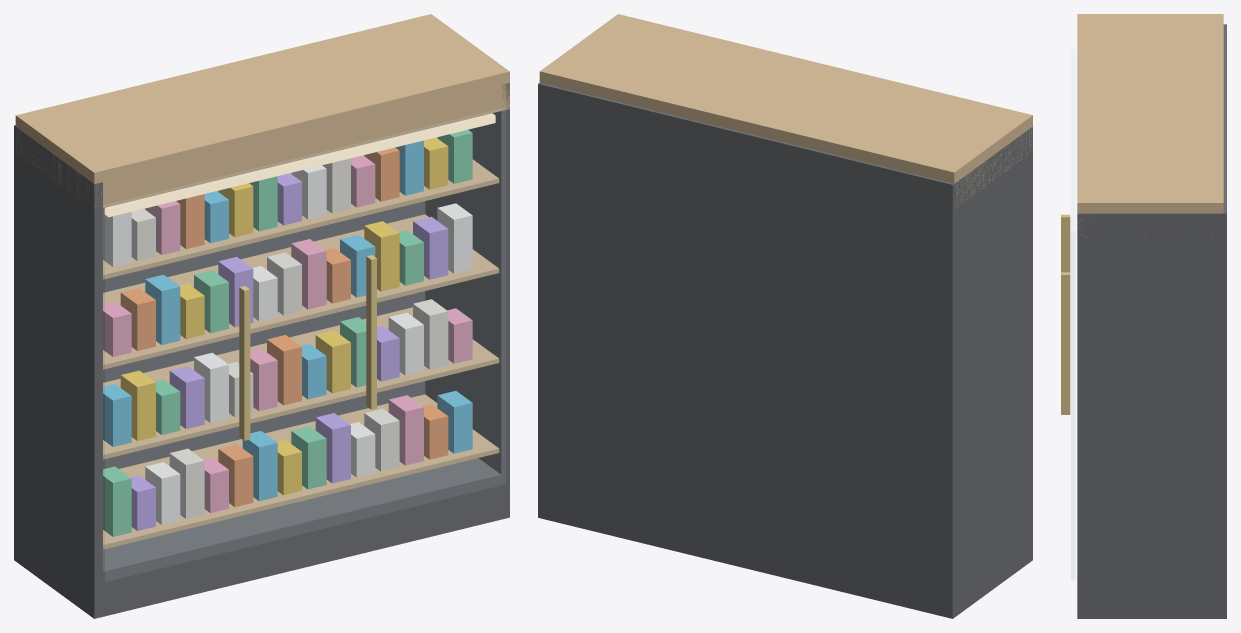
File: fridge_bay_29.glb
3 views of the same model, side by side, from view 1: azimuth 30°, elevation 25°; view 2: azimuth 150°, elevation 25°; view 3: azimuth 270°, elevation 25° (orthographic). The views are drawn at different scales.
Visible parts, largest first — view 1: glass, c2b2e33_0.5_0, oak, cffffff_0.5_0, c2d9cdb_0.5_0, cec6fa1_0.5_0, c3bb273_0.5_0, cf2b01e_0.5_0, cf2662c_0.5_0, ce8e0d2_0.5_0, c8e6cef_0.5_0, glowffd9a0 (+1 smaller); view 2: c2b2e33_0.5_0, oak; view 3: c2b2e33_0.5_0, oak, glass, cc9a24a_0.25_0.8.
Part boxes in pixels (<box>): glass: <box>103,108,505,581</box>; c2b2e33_0.5_0: <box>14,83,509,618</box>; oak: <box>15,14,509,549</box>; cffffff_0.5_0: <box>103,165,472,524</box>; c2d9cdb_0.5_0: <box>103,140,472,501</box>; cec6fa1_0.5_0: <box>103,155,472,513</box>; c3bb273_0.5_0: <box>103,130,472,536</box>; cf2b01e_0.5_0: <box>120,137,448,495</box>; cf2662c_0.5_0: <box>120,147,448,507</box>; ce8e0d2_0.5_0: <box>131,158,448,518</box>; c8e6cef_0.5_0: <box>131,173,448,530</box>; glowffd9a0: <box>104,113,495,217</box>; c2b2e33_0.5_0: <box>538,82,1032,618</box>; oak: <box>539,14,1032,206</box>; c2b2e33_0.5_0: <box>1077,24,1226,618</box>; oak: <box>1077,14,1223,237</box>; glass: <box>1071,49,1074,579</box>; cc9a24a_0.25_0.8: <box>1061,214,1070,414</box>.
Size of the model in its own units: 2.9 by 2.97 by 1.08.
